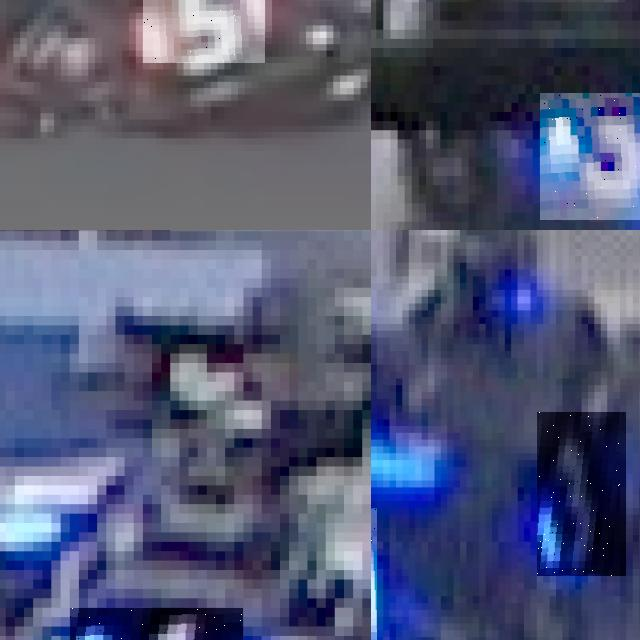B3: (537, 412, 626, 576), (540, 93, 640, 221)
B4: (69, 607, 243, 640)
R5: (142, 0, 265, 63)
